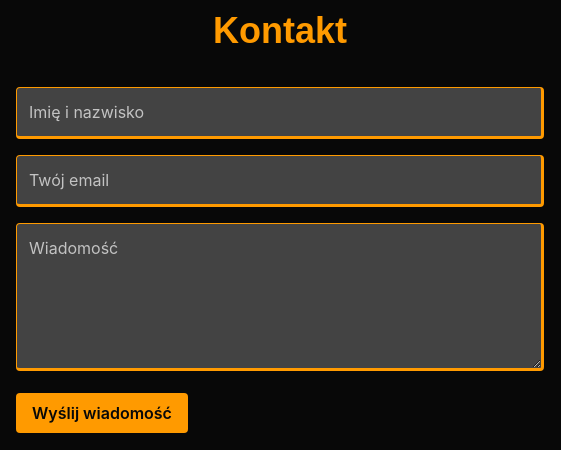
Test: blokuje wielokrotną wysyłkę, dopóki poprzednia trwa
Later steps or results of the test are not shown.
Step 1. Type "Jan Kowalski" into the field labelled "Imię i nazwisko" → [280, 113], box [16,87,544,139]
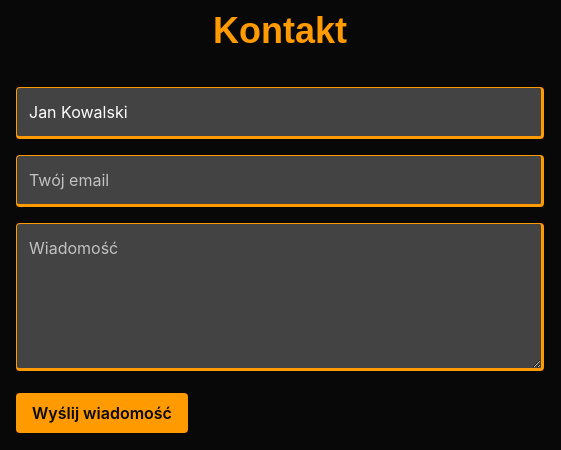
Step 2. Type "jan@example.com" into the field labelled "Twój email" → [280, 181], box [16,155,544,207]
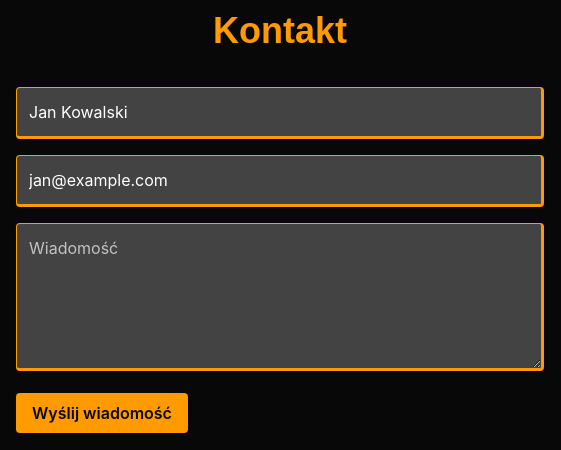
Step 3. Type "Proszę o kontakt" into the text box labelled "Wiadomość" → [280, 297], box [16,223,544,371]
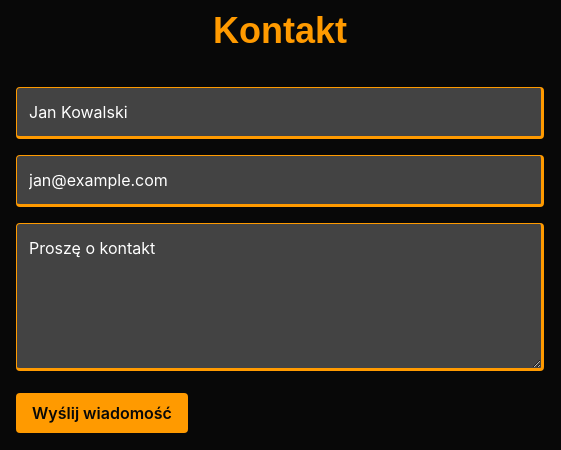
Step 4. Submit the form labelled "wiadomość"
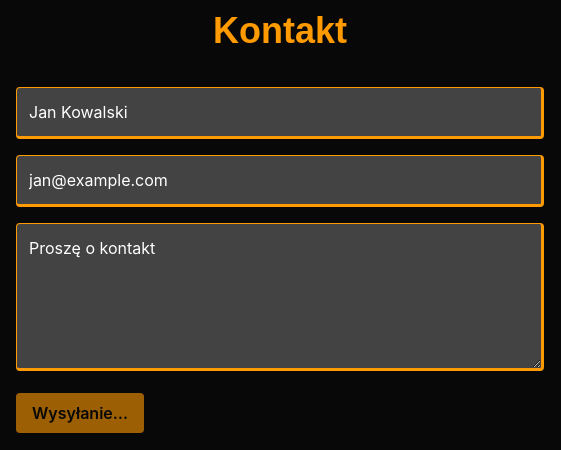
Step 5. Submit the form named "Wiadomość"
Step 6. Submit the form named "Wiadomość"
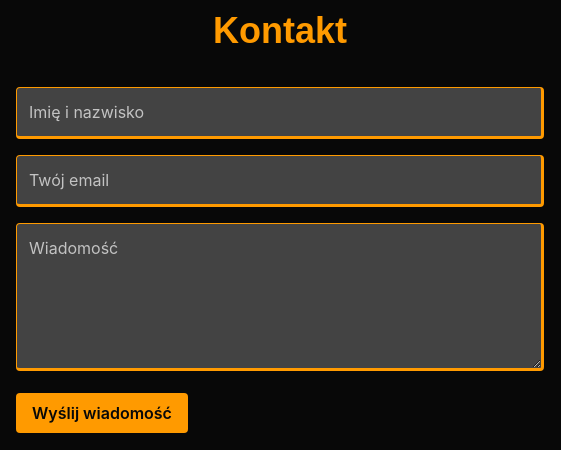
Now the button "Wyślij wiadomość" is shown, box [16,393,188,433]
